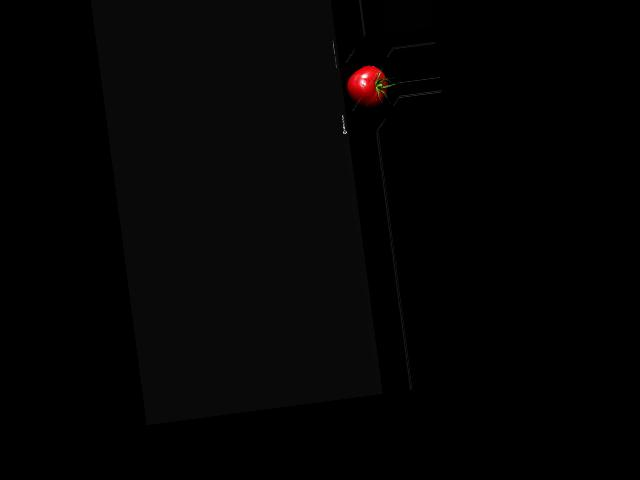tomato: (344, 63, 390, 110)
